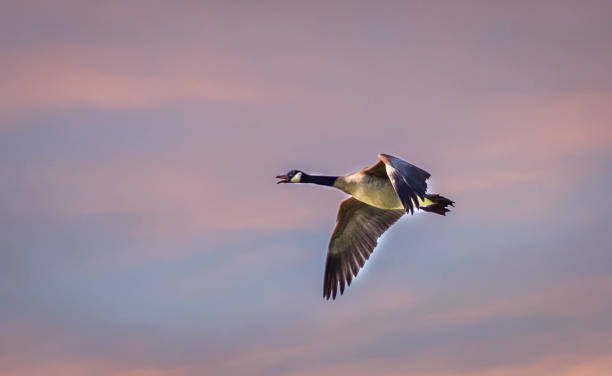goose: (272, 150, 457, 304)
